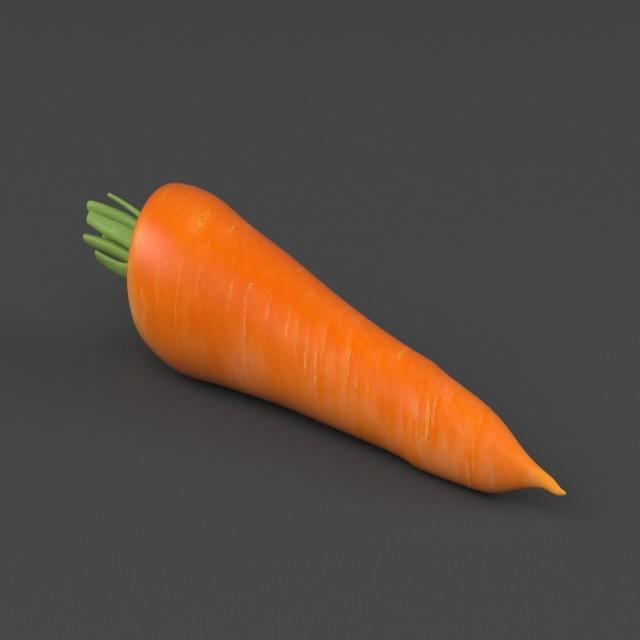carrot: (126, 174, 569, 511)
